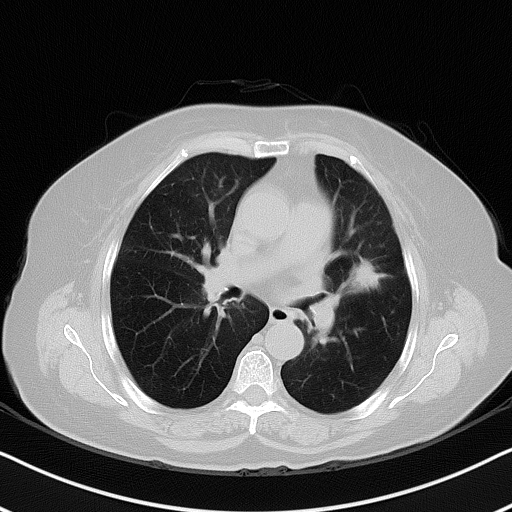nodule: (342, 257, 388, 292)
